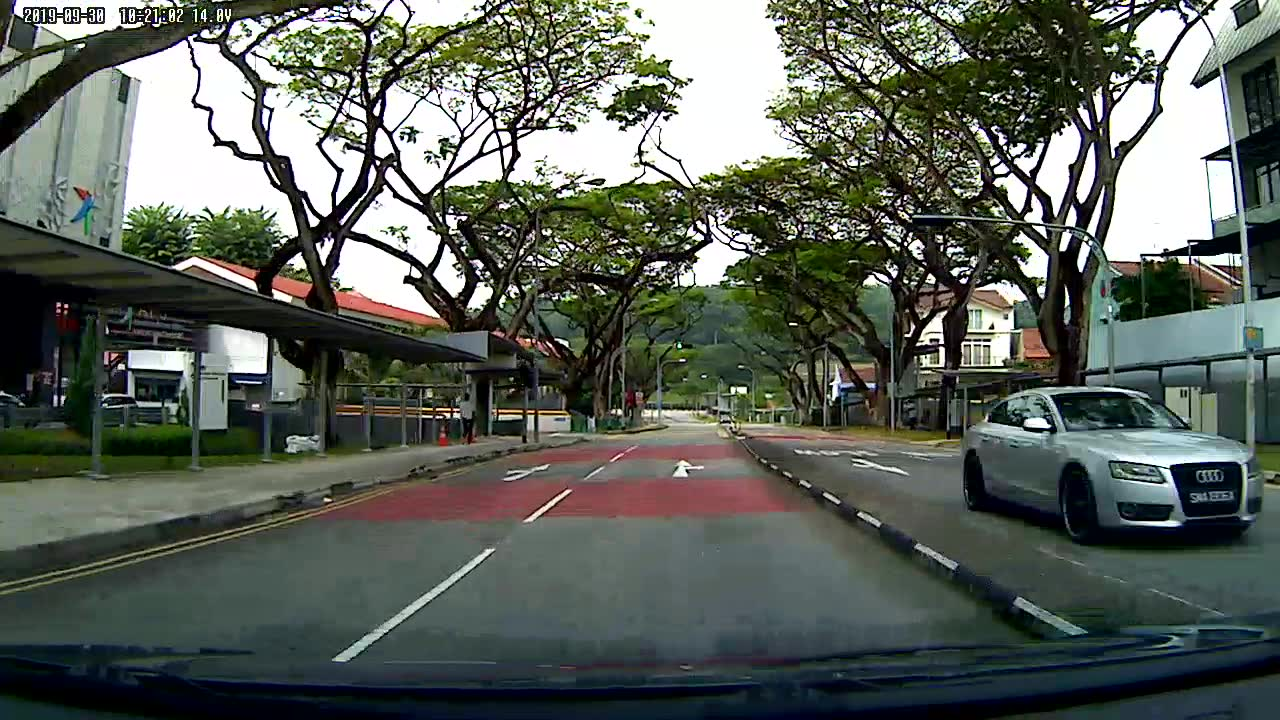car: (964, 388, 1269, 546)
